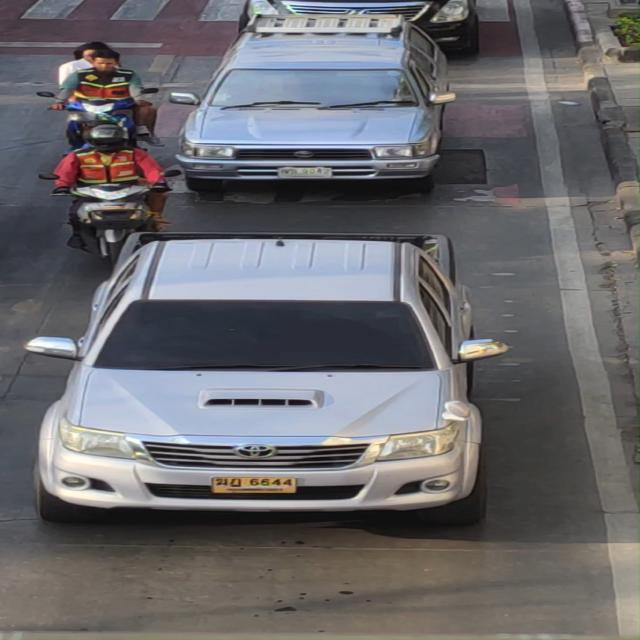car: (23, 226, 529, 516), (167, 24, 487, 192)
